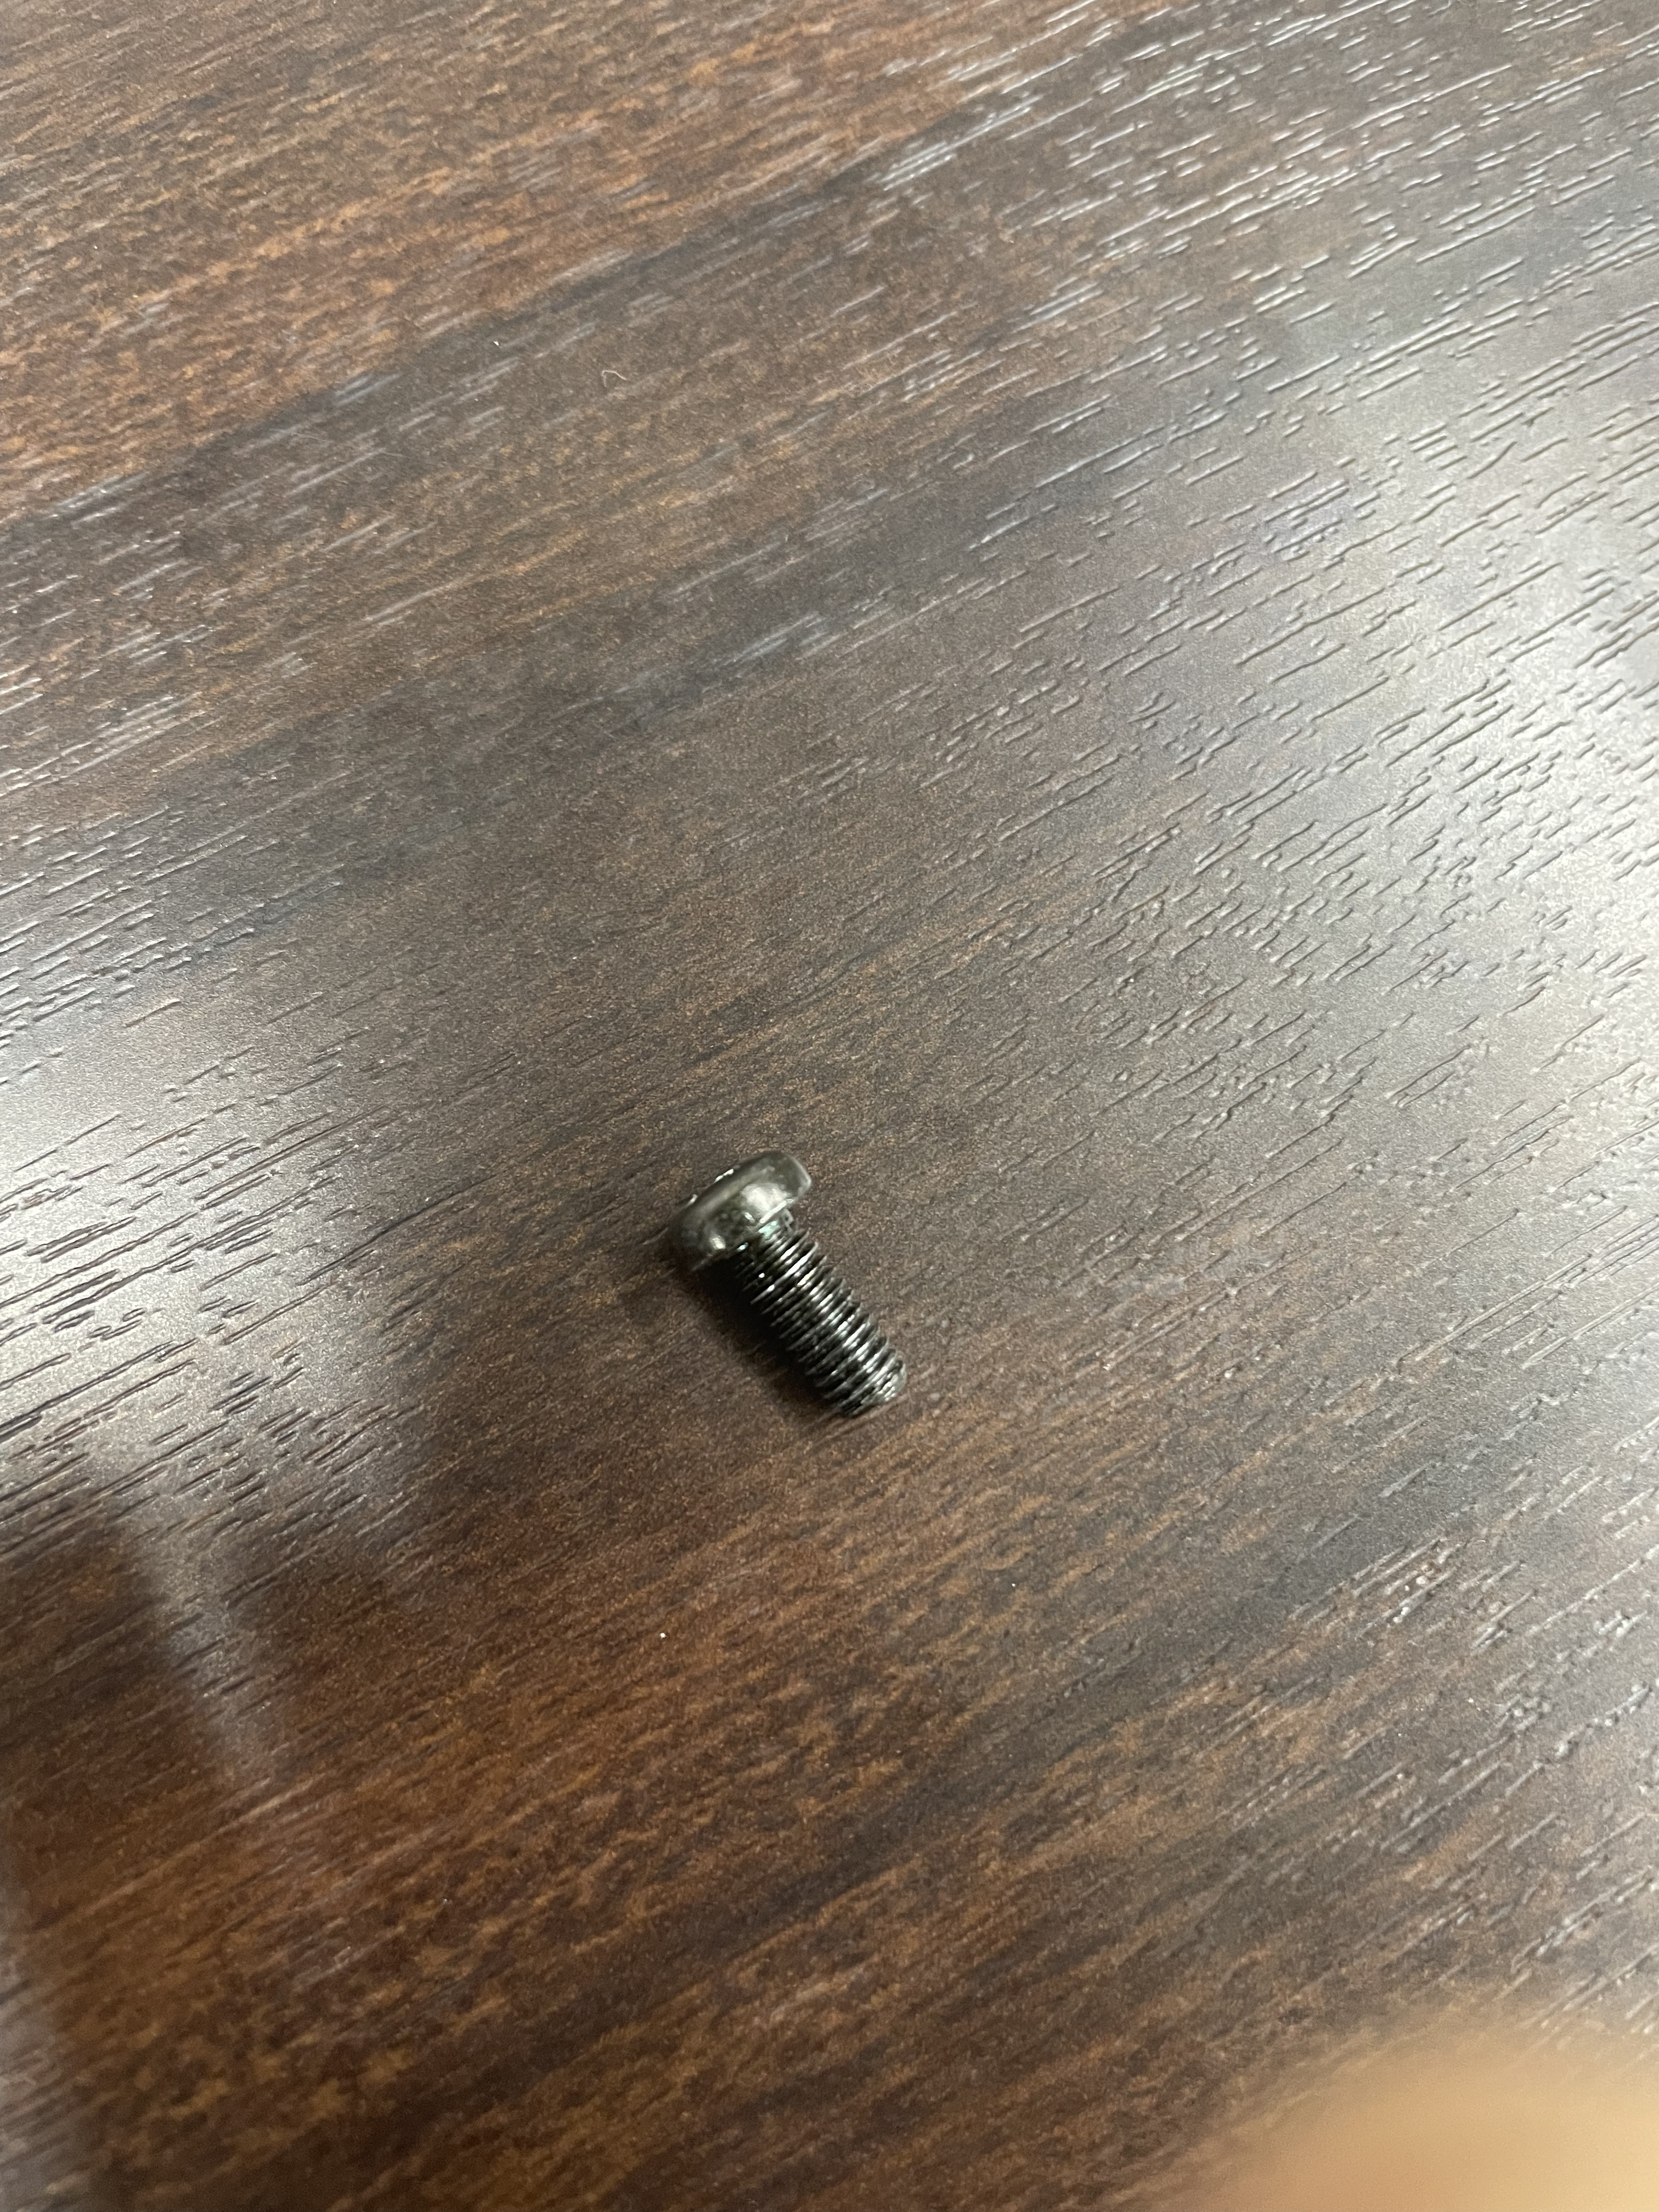screw2: (666, 1149, 908, 1426)
